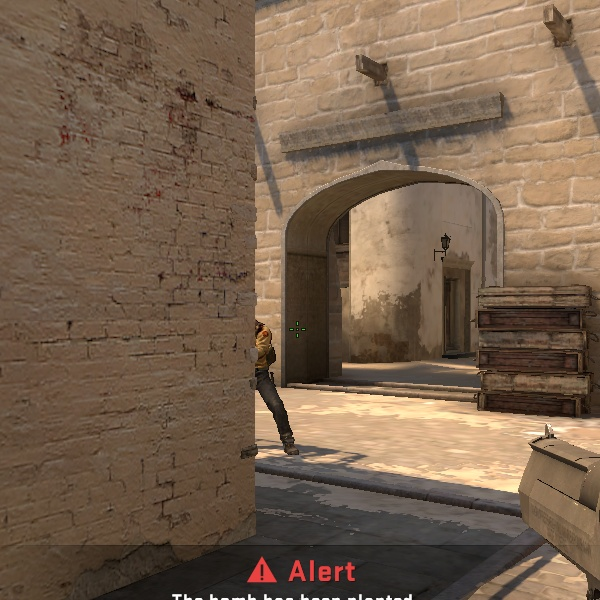t_body: (237, 317, 297, 452)
